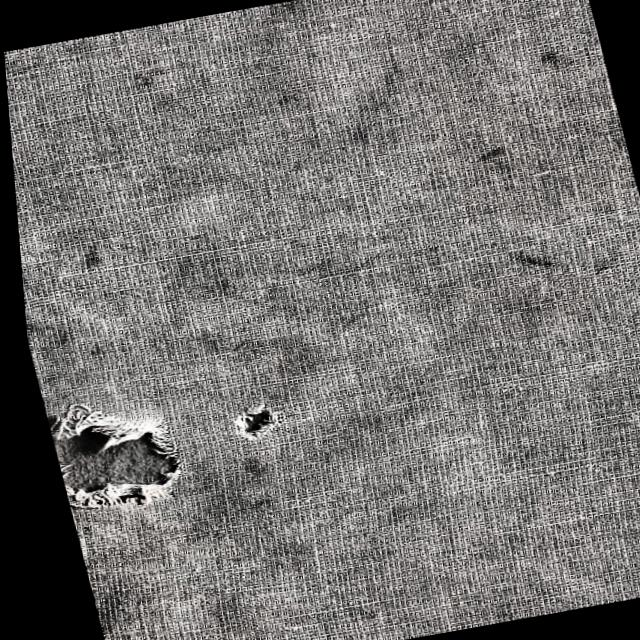Hole: (30, 360, 220, 546), (192, 377, 305, 463)
